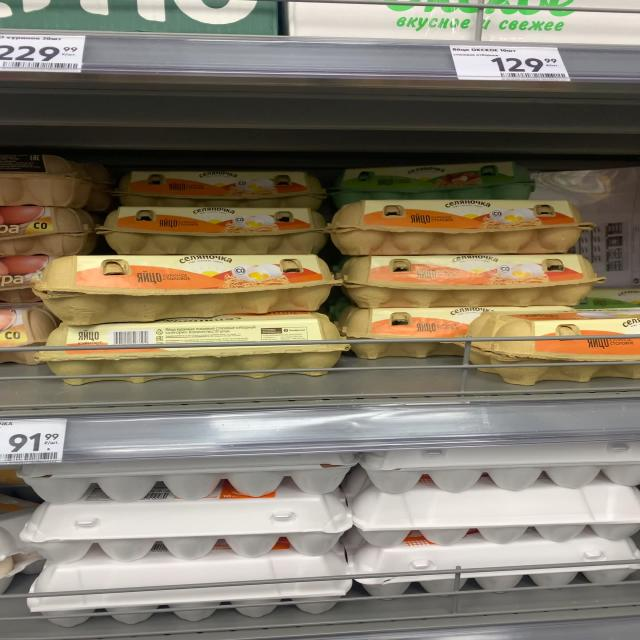egg box: (30, 252, 334, 312), (34, 317, 338, 377), (330, 197, 580, 253), (330, 255, 586, 302), (94, 203, 321, 254), (110, 168, 323, 209), (326, 161, 548, 197)
